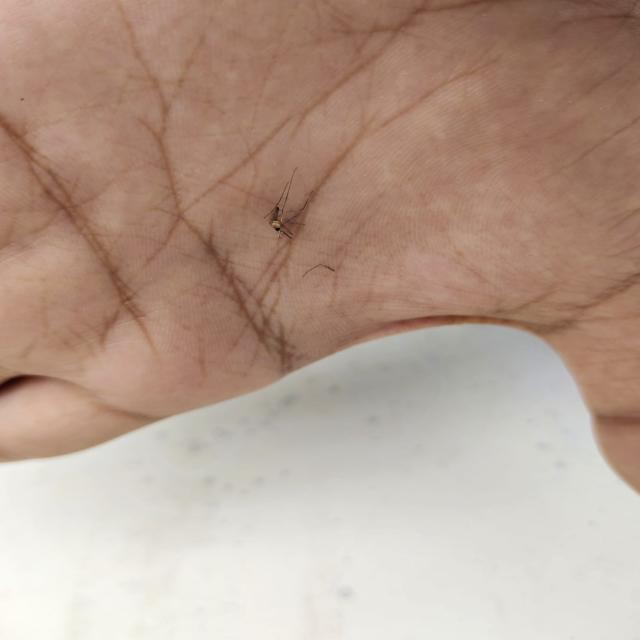Mosquito: (236, 157, 346, 259)
